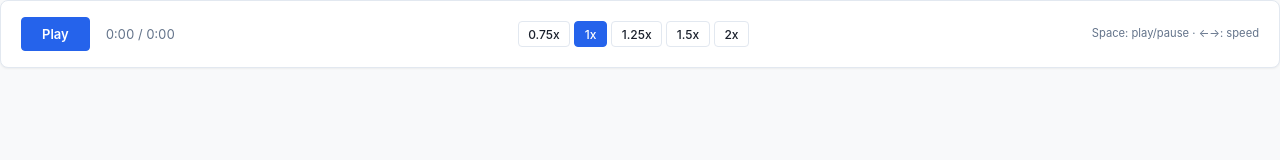
Test: AudioPlayer › play/pause button toggles playback
# Click play
Click the button with test id "play-pause-btn".
click(55, 34)  # box x1=21 y1=17 x2=90 y2=51
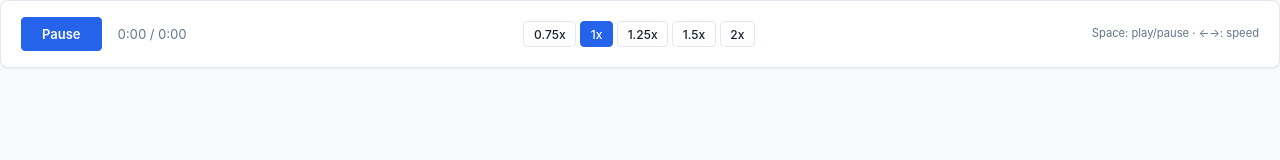
Result: the button with test id "play-pause-btn" reads "Pause"
# Click pause
Click the button with test id "play-pause-btn".
click(61, 34)  # box x1=21 y1=17 x2=102 y2=51
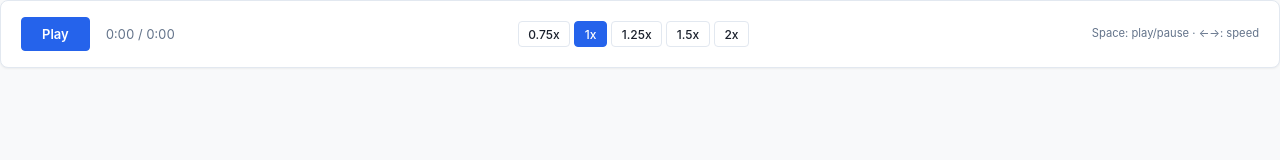
Result: the button with test id "play-pause-btn" reads "Play" at x1=21 y1=17 x2=90 y2=51
